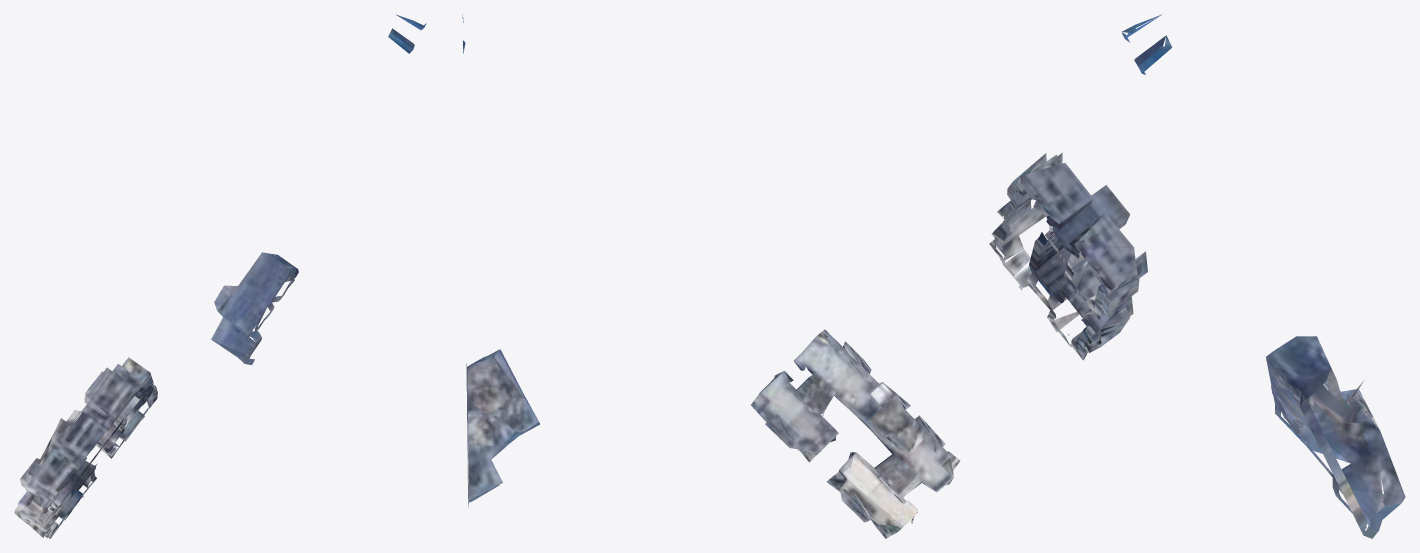
The picture shows the model from 3 angles, left to right: view 1: azimuth 30°, elevation 25°; view 2: azimuth 150°, elevation 25°; view 3: azimuth 270°, elevation 25°; orthographic projection. The views are drawn at different scales.
Size of the model in its own units: 137 by 123 by 75.61.
1 material, 1 textured.
